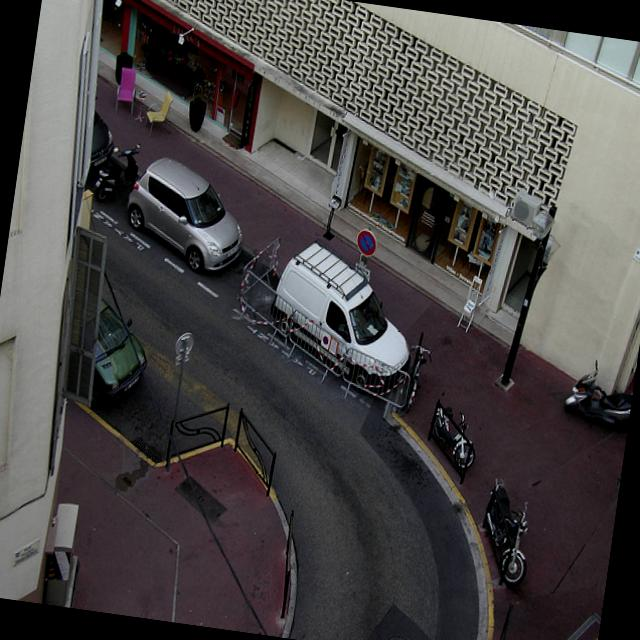Vehicle: (264, 237, 424, 398), (118, 152, 255, 278), (89, 300, 156, 410), (476, 476, 538, 590), (561, 355, 637, 434), (428, 404, 482, 471), (92, 138, 144, 206), (86, 108, 120, 175)
